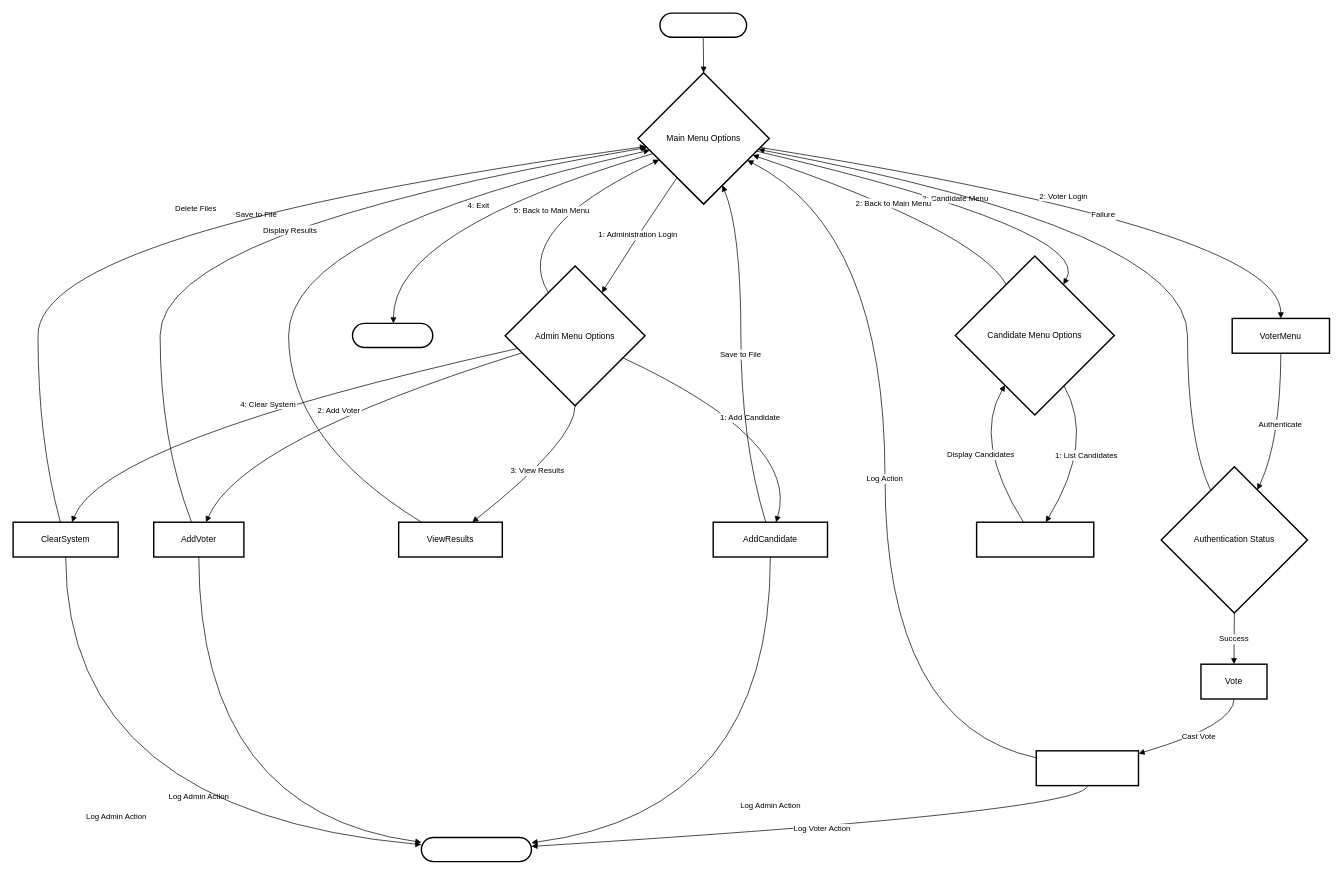
The diagram is 1342 pixels wide and 874 high, and some of its shapes have lost their labels. The box of each missing label's shape, as (x1, y1, x2, y2) in pixels:
End Program: (351, 322, 433, 348)
ListCandidates: (976, 521, 1094, 557)
Log Actions to File: (420, 836, 532, 862)
Start Program: (659, 12, 747, 38)
UpdateVote: (1035, 750, 1139, 786)
